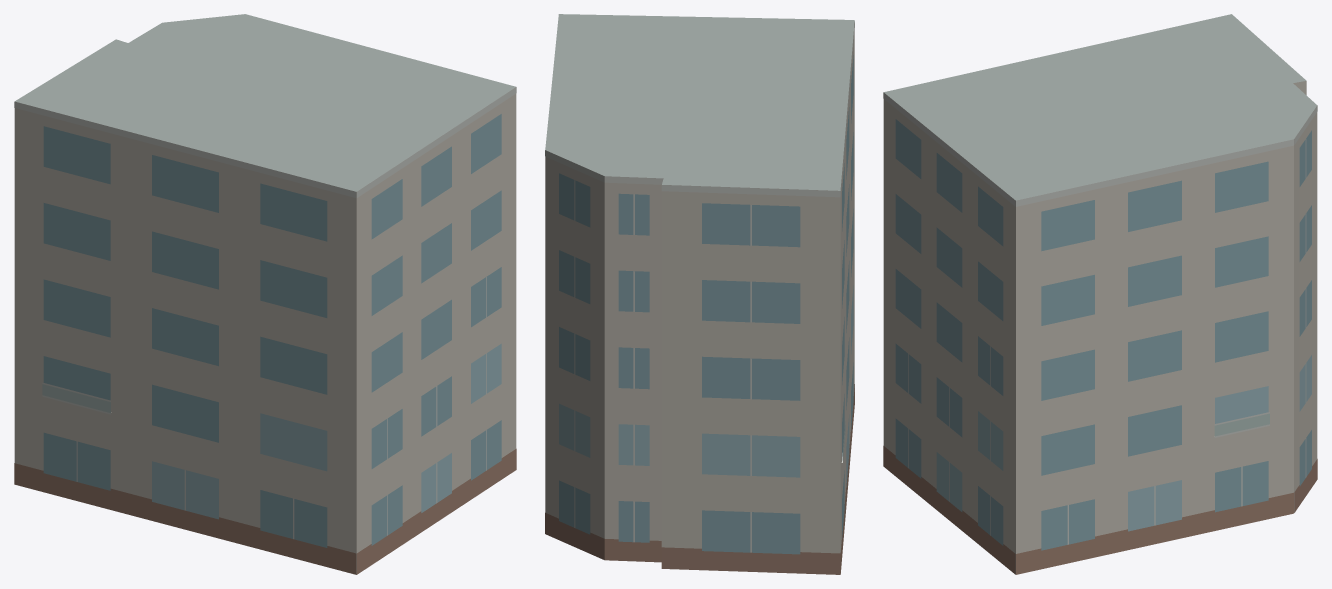
The model's file is survey-upis-32947045.glb.
The picture shows the model from 3 angles, left to right: view 1: azimuth 30°, elevation 25°; view 2: azimuth 150°, elevation 25°; view 3: azimuth 270°, elevation 25°; orthographic projection. The views are drawn at different scales.
Visible parts, largest first — view 1: survey-upis-32947045.tmp; view 2: survey-upis-32947045.tmp; view 3: survey-upis-32947045.tmp.
Part boxes in pixels (box(x1,y1,x2,y2)): survey-upis-32947045.tmp: box(14, 14, 516, 574); survey-upis-32947045.tmp: box(545, 14, 854, 574); survey-upis-32947045.tmp: box(883, 14, 1317, 574).
Bounding box in the file's own units: 15.52 × 14.5 × 15.24.
